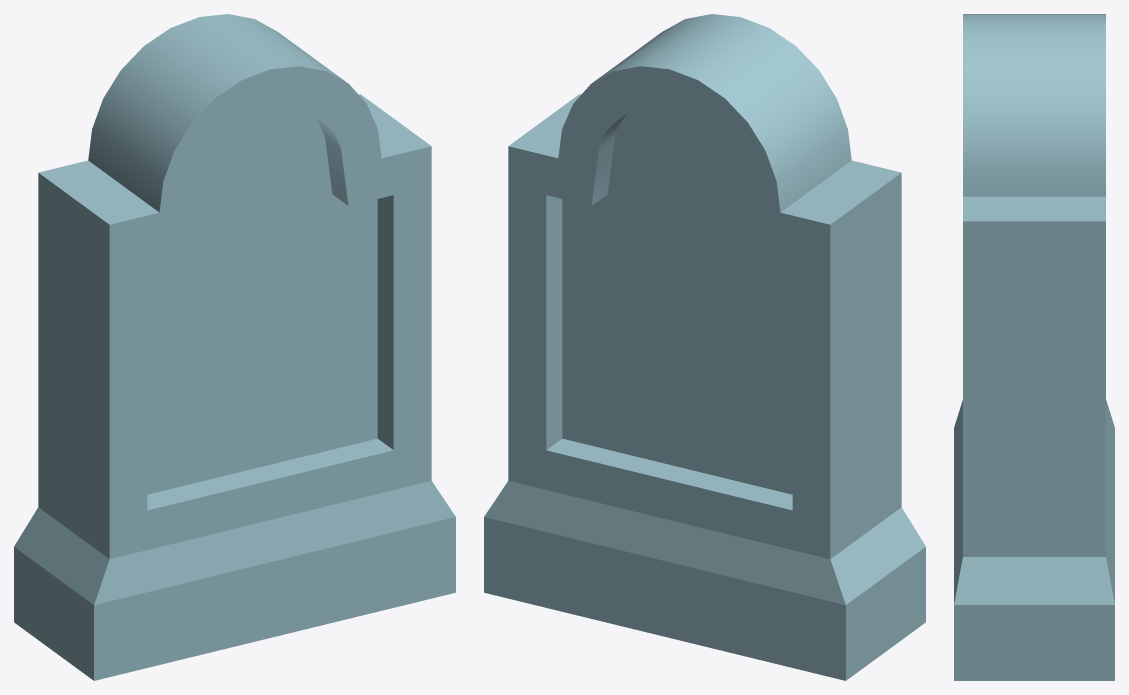
File: grave1.glb
3 views of the same model, side by side, from view 1: azimuth 30°, elevation 25°; view 2: azimuth 150°, elevation 25°; view 3: azimuth 270°, elevation 25° (orthographic).
Parts seen in each view (by area): view 1: mergedBlocks(Clone); view 2: mergedBlocks(Clone); view 3: mergedBlocks(Clone).
Boxes of the visible parts, x1,y1,x2,y2 form: mergedBlocks(Clone): (14,14,455,680); mergedBlocks(Clone): (484,14,925,680); mergedBlocks(Clone): (954,14,1114,680).
Size of the model in its own units: 0.39 by 0.5812 by 0.1495.
